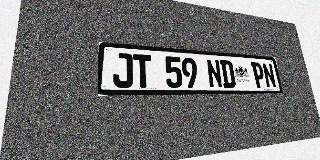5: (165, 56, 183, 88)
9: (181, 57, 199, 88)
D: (219, 60, 236, 88)
J: (113, 52, 133, 88)
N: (206, 59, 223, 88), (262, 63, 277, 88)
P: (251, 62, 266, 88)
T: (133, 54, 153, 88)
